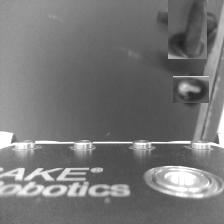Door Handle: (162, 2, 213, 54)
Lock: (176, 74, 207, 106)
